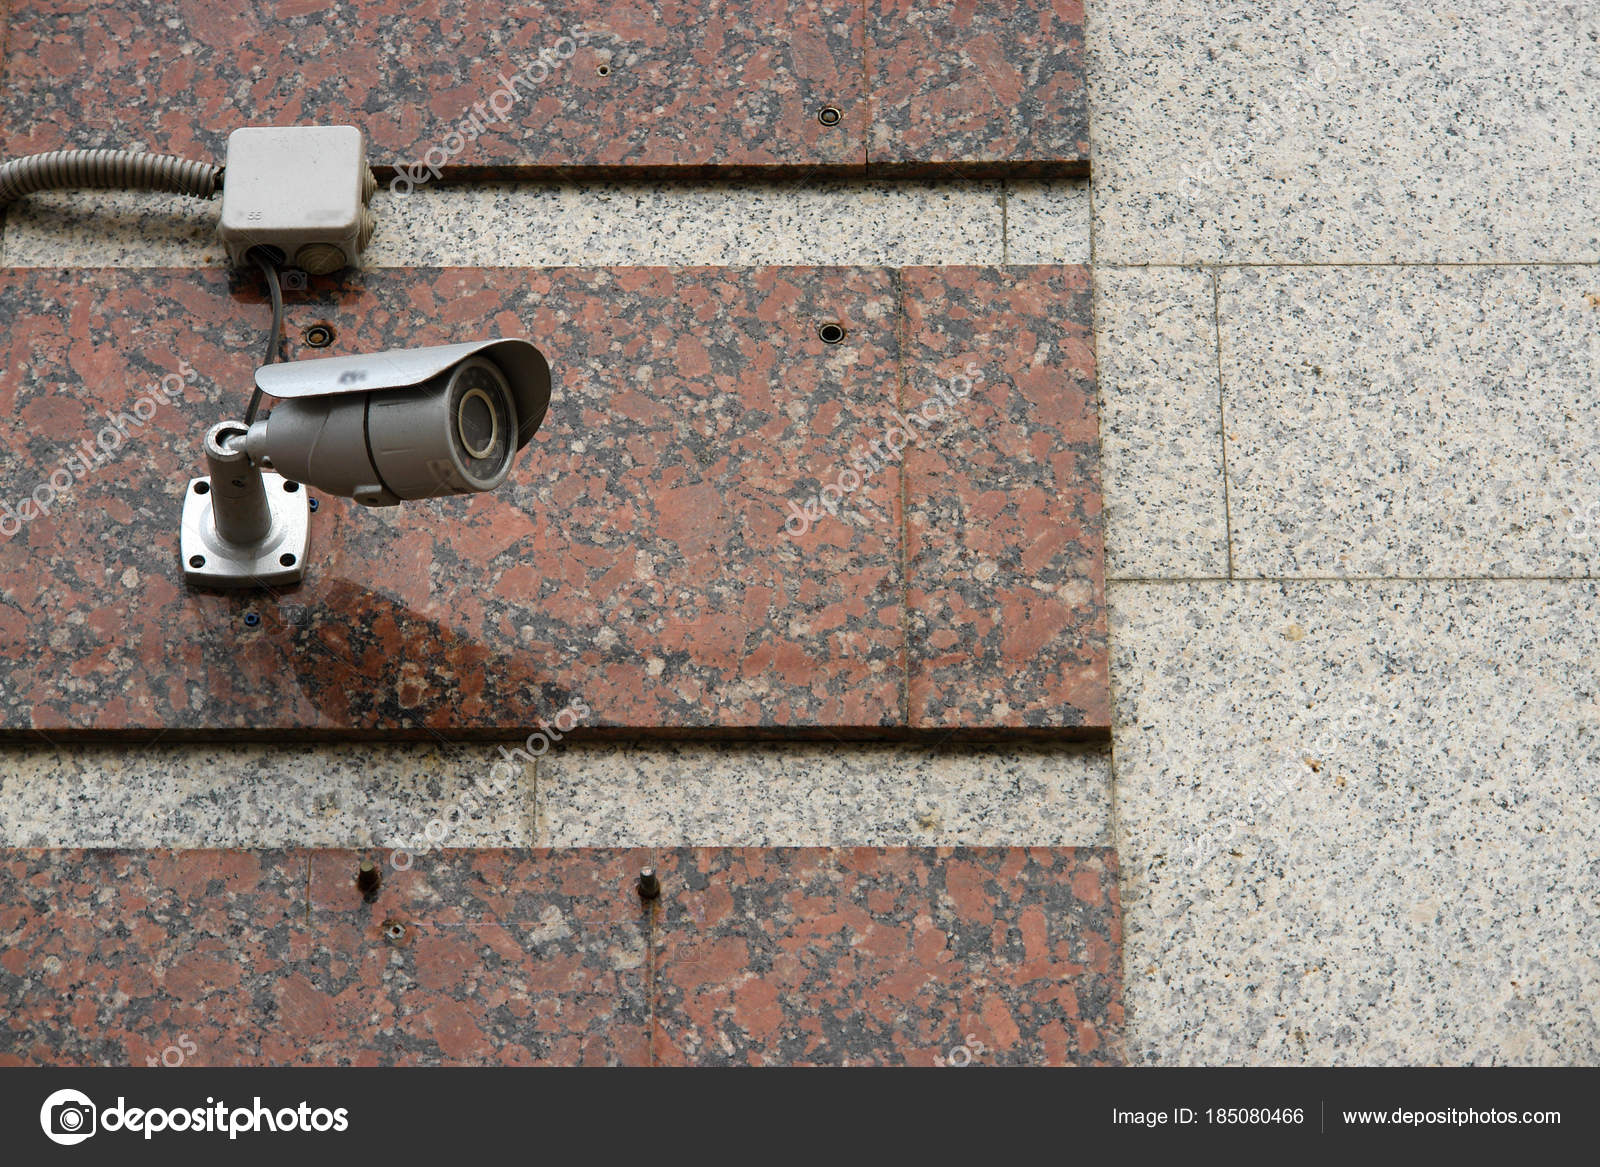CC Camera: (222, 338, 595, 510)
